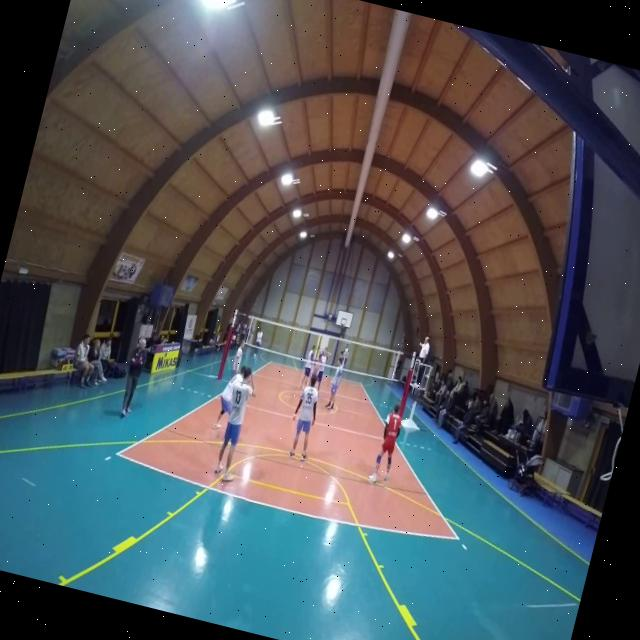serve: (334, 338, 354, 379)
